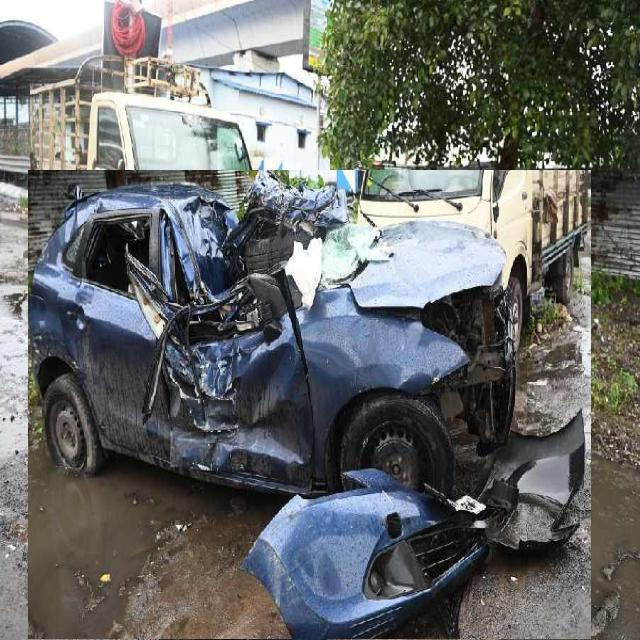accident: (28, 170, 591, 639), (0, 54, 263, 360)
